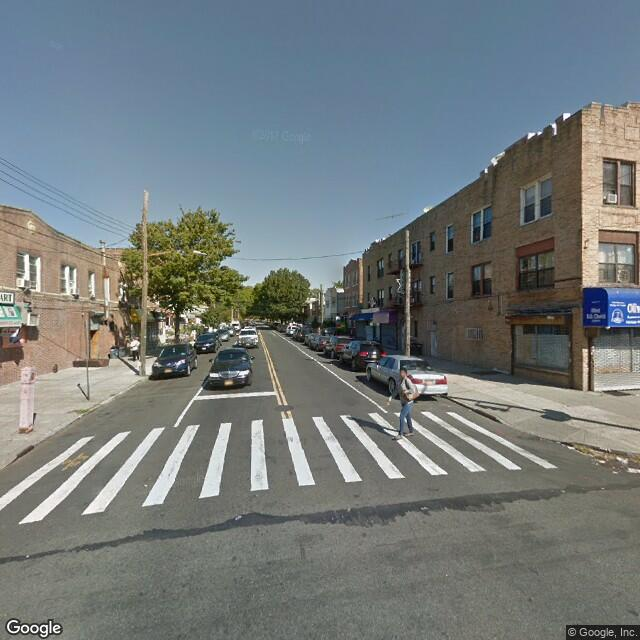litter: (566, 444, 574, 450), (598, 460, 604, 464), (613, 471, 618, 475), (25, 553, 31, 556), (143, 483, 148, 486), (235, 515, 242, 517)
